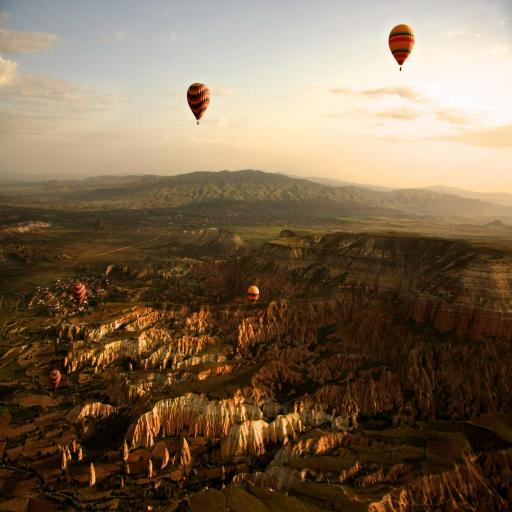hot air ballon: (388, 24, 415, 71), (187, 83, 210, 125)
